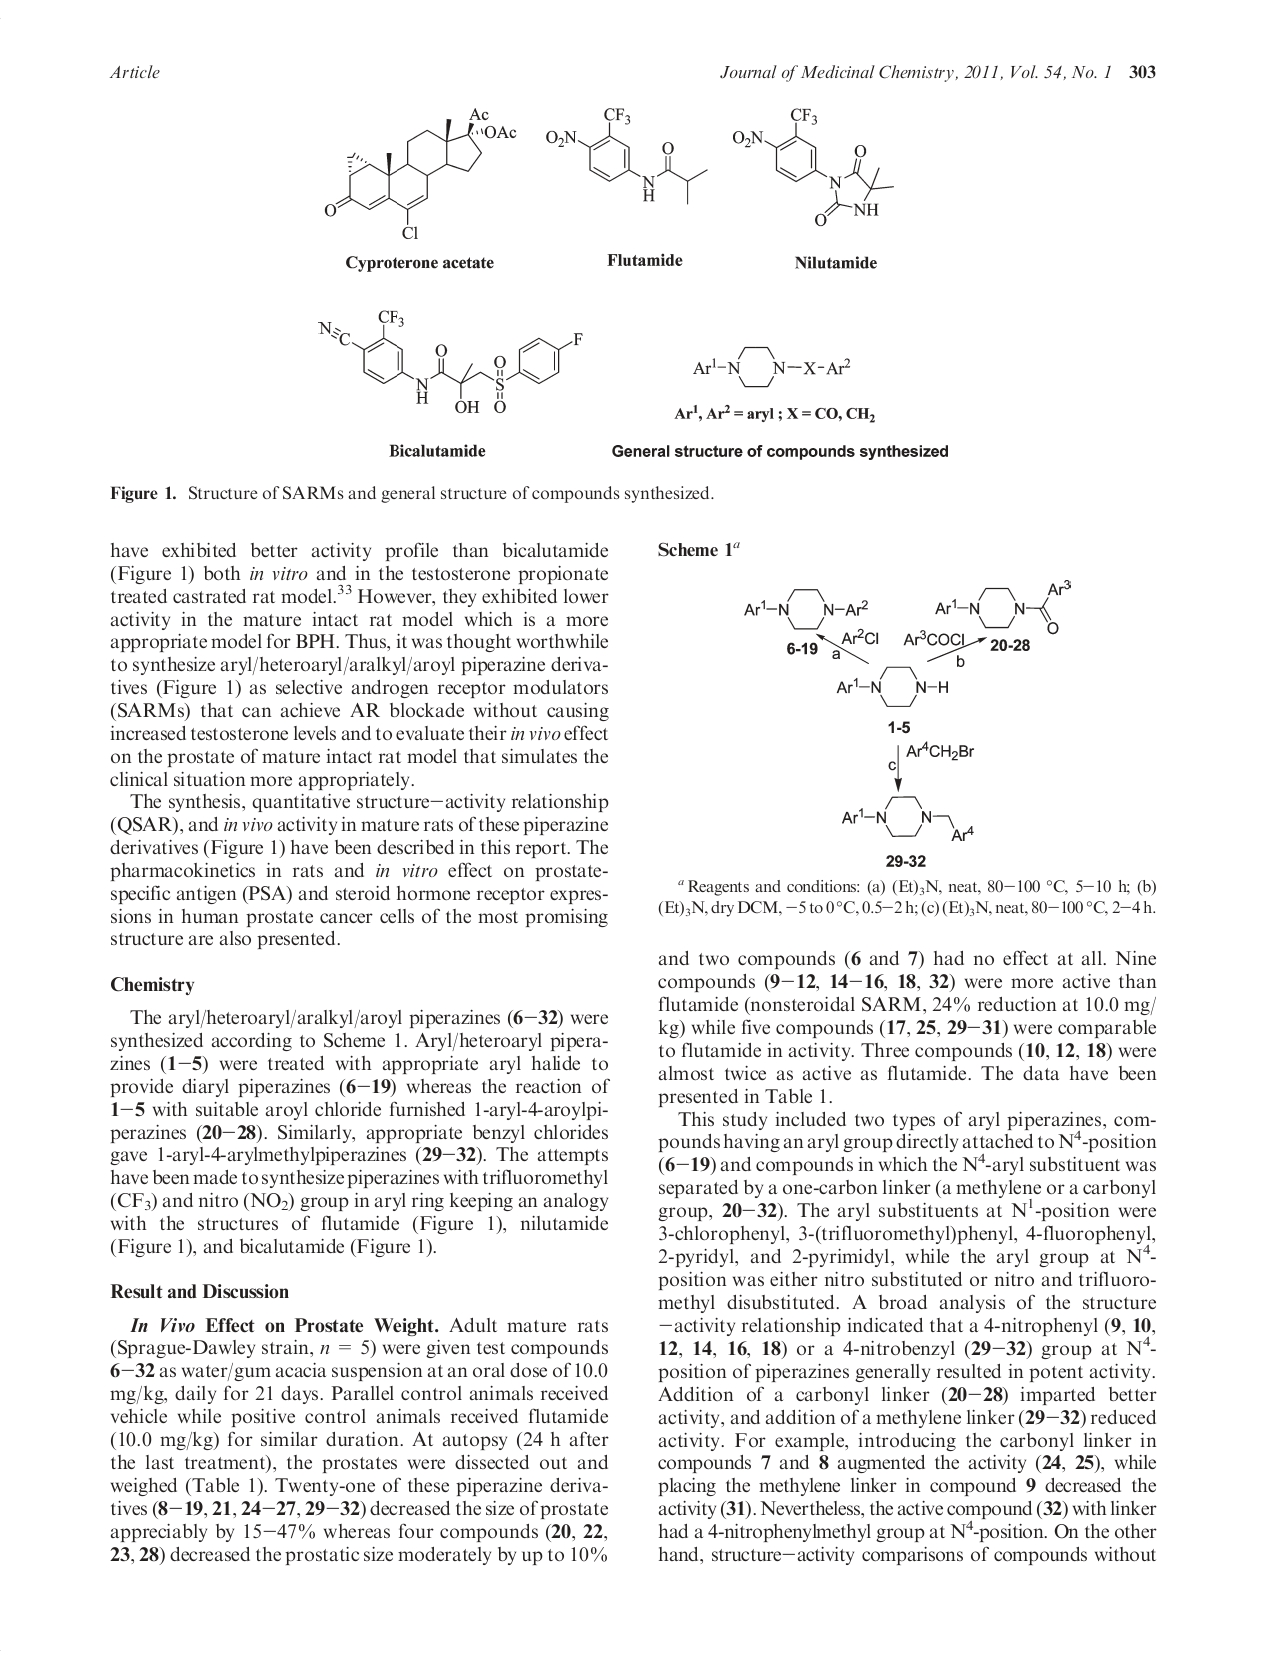exist_molecular: (316, 301, 582, 422), (322, 105, 519, 241), (541, 98, 723, 215), (730, 98, 894, 227), (688, 335, 855, 391), (834, 790, 981, 850), (932, 576, 1072, 634), (743, 581, 867, 633), (828, 662, 956, 711)
